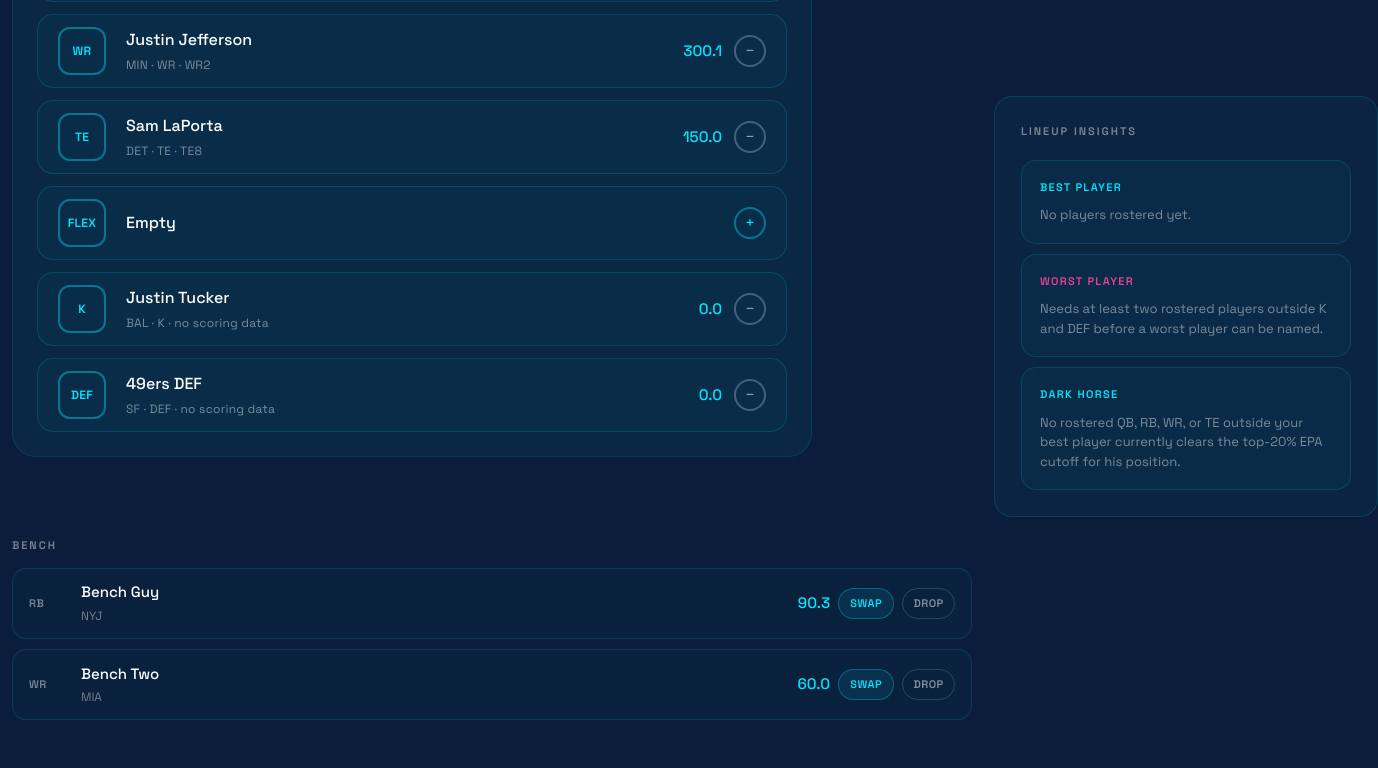
Test: ViewLineupPanel › swaps a bench player into an eligible starter slot via POST /swap-players and reflects the swap after reload
The image size is (1378, 768).
(page scrolled)
Check: the text "Bench Guy" is shown, box 81,581 -> 159,604
// "Bench Guy" (bn1, RB) is the first SWAP button rendered in bench order.
What coordinates should you click on to do the following:
click the button "SWAP" next to "90.3"
I would click on:
 (866, 603)
Its box is 838,588 -> 894,619.
(page scrolled)
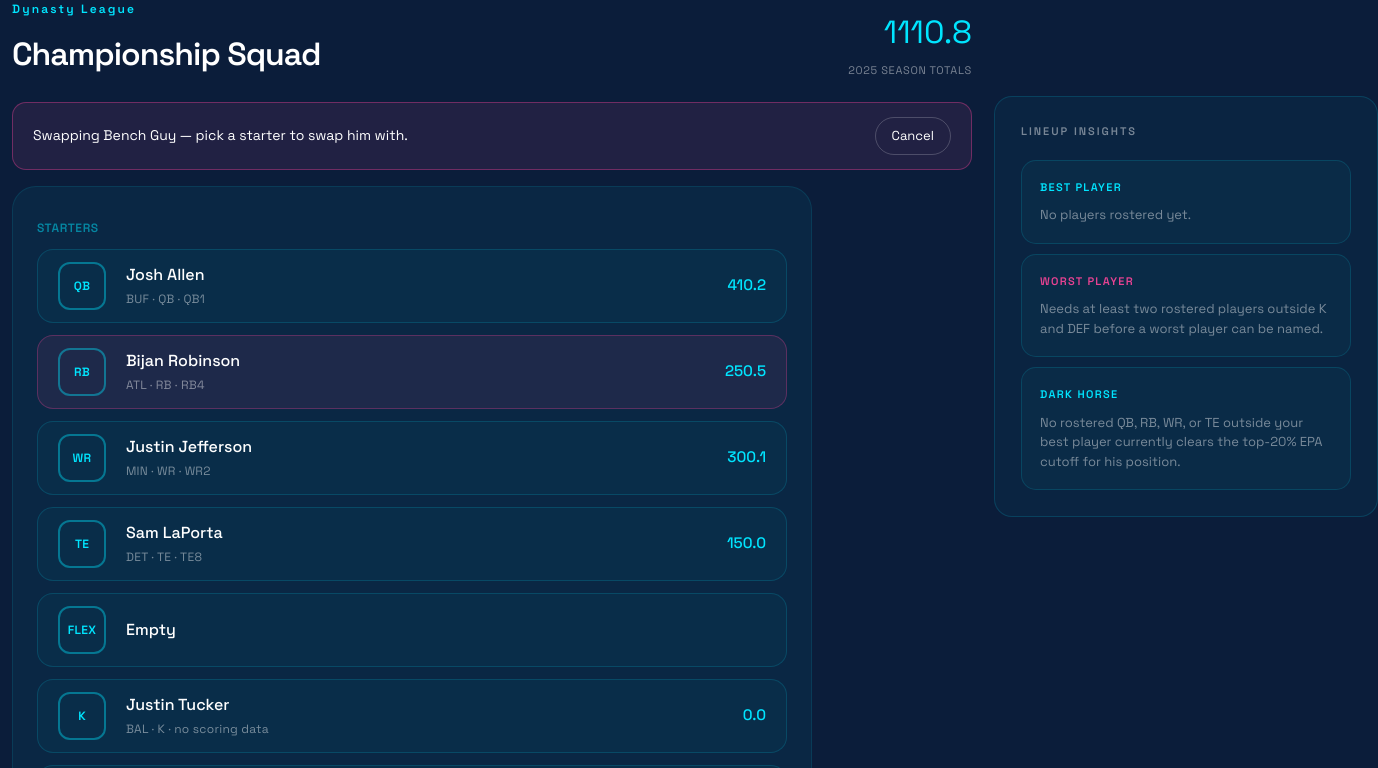
Check: the text "Swapping Bench Guy — pick a starter to swap him with." is shown, box 33,125 -> 408,146
Check: the button "QB Josh Allen BUF · QB · QB1" is disabled, box 58,262 -> 694,310
What coordinates should you click on to do the following:
click the text "Bijan Robinson"
I would click on:
 (183, 360)
Its box is 126,350 -> 240,371.
(page scrolled)
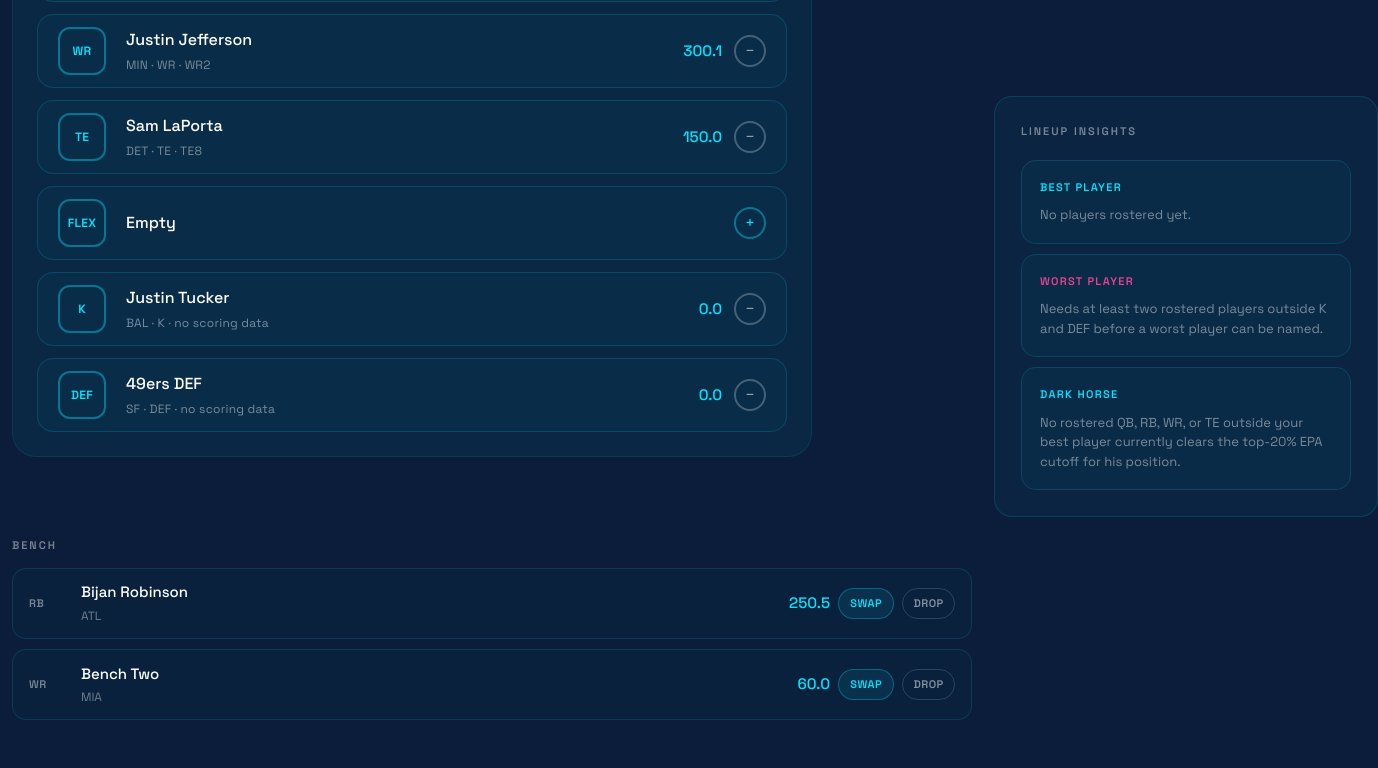
Check: the number of buttons "SWAP" is 2, box 838,588 -> 894,619; 838,669 -> 894,700
Check: the text "Swapping" is gone
Check: the text "Bijan Robinson" is shown, box 81,581 -> 188,604
